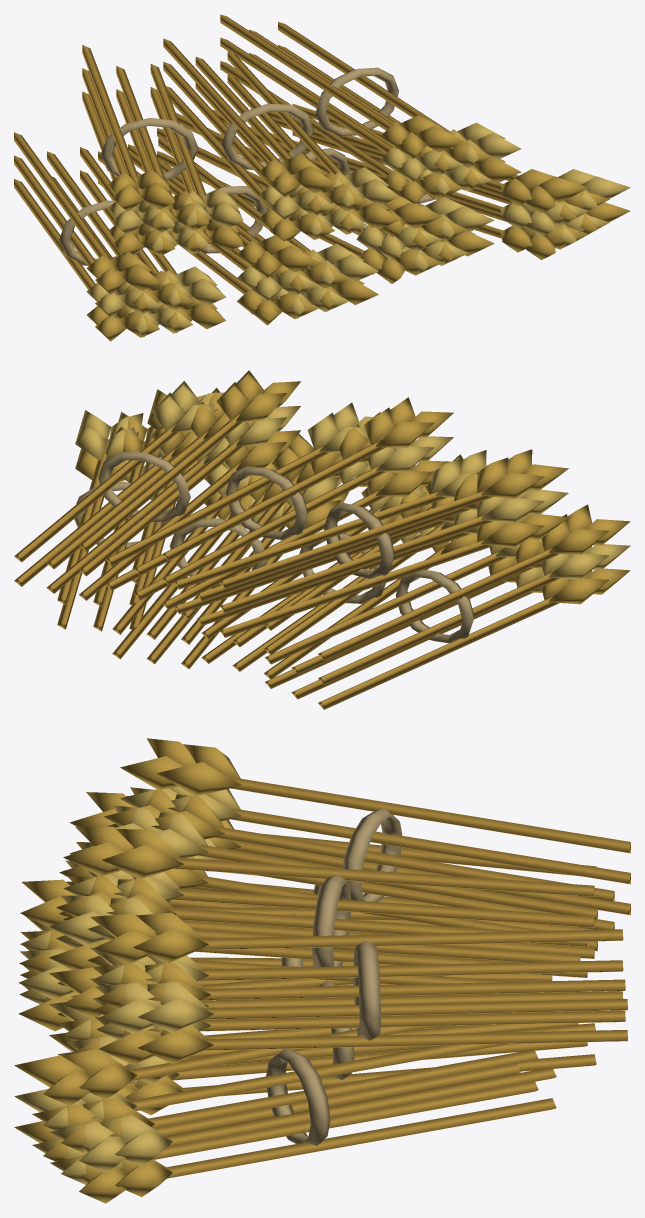
The model's file is pile-wheat-7.gltf.
3 renders of one model, top to bottom at view 1: azimuth 30°, elevation 25°; view 2: azimuth 150°, elevation 25°; view 3: azimuth 270°, elevation 25°, orthographic. The views are drawn at different scales.
Visible parts, largest first — view 1: pile-wheat-7; view 2: pile-wheat-7; view 3: pile-wheat-7.
Part boxes in pixels (<box>): pile-wheat-7: <box>14,14,630,341</box>; pile-wheat-7: <box>14,370,630,709</box>; pile-wheat-7: <box>14,738,630,1203</box>.
Bounding box in the file's own units: 0.7706 × 0.1898 × 0.5948.
